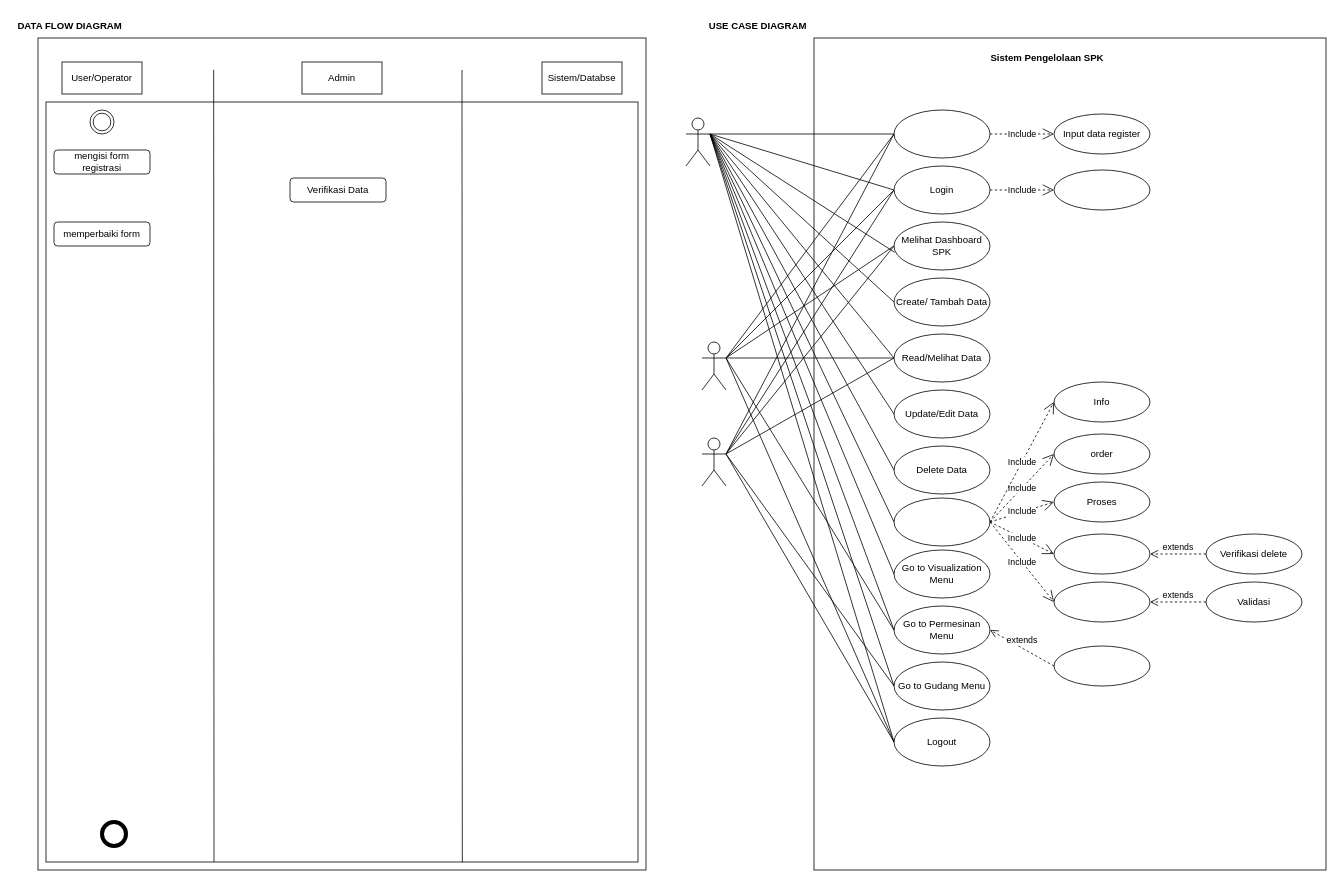
Image size: 1340x884. Some labels were removed from this diagram. Here are the shapes that lost their labels. From the top down, the centre of each, then its label:
At (697,141): "PPC/Admin".
At (941,133): "Register".
At (1101,189): "Input data login".
At (713,365): "User/Produksi".
At (713,461): "User/Gudang".
At (941,521): "Go to SPK Menu".
At (1101,553): "Delete".
At (1101,601): "Tambah SPK".
At (1101,665): "status info".
